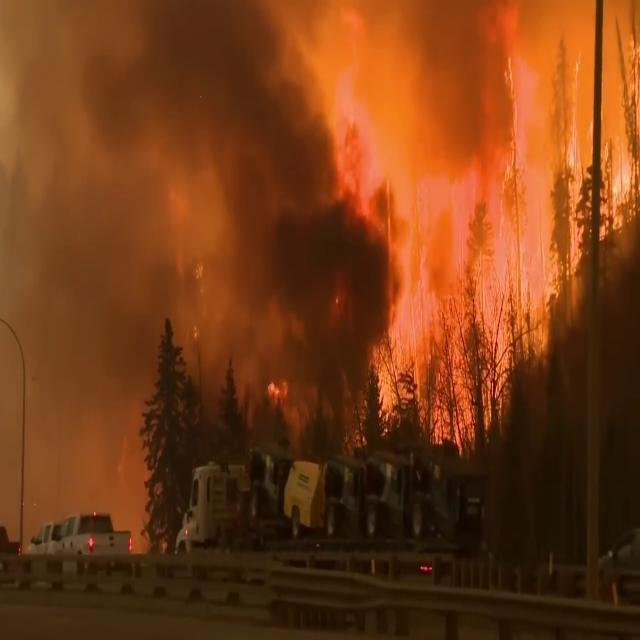Fire: (394, 0, 640, 407)
Smoke: (1, 0, 508, 476)
